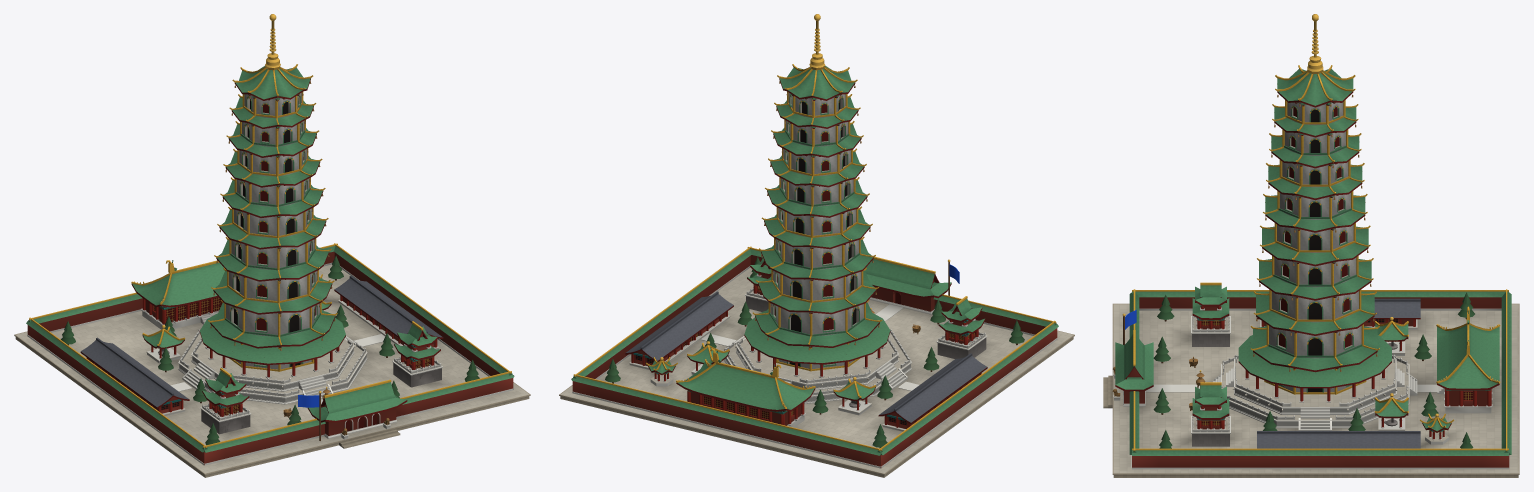
The model's file is lm_porselenkule.glb.
3 renders of one model, left to right at view 1: azimuth 30°, elevation 25°; view 2: azimuth 150°, elevation 25°; view 3: azimuth 270°, elevation 25°, orthographic. The views are drawn at different scales.
Parts seen in each view (by area): view 1: lm_porselenkule; view 2: lm_porselenkule; view 3: lm_porselenkule.
Boxes of the visible parts, x1=… form: lm_porselenkule: x1=14, y1=14, x2=530, y2=477; lm_porselenkule: x1=559, y1=14, x2=1074, y2=477; lm_porselenkule: x1=1103, y1=14, x2=1519, y2=477.
Size of the model in its own units: 2.31 by 2.41 by 2.4.
Materials: 1 (1 with a texture image).
